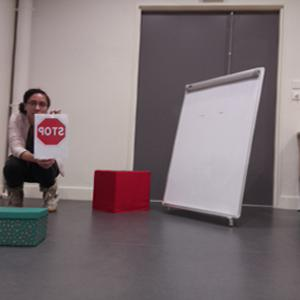stop: (37, 118, 66, 145)
